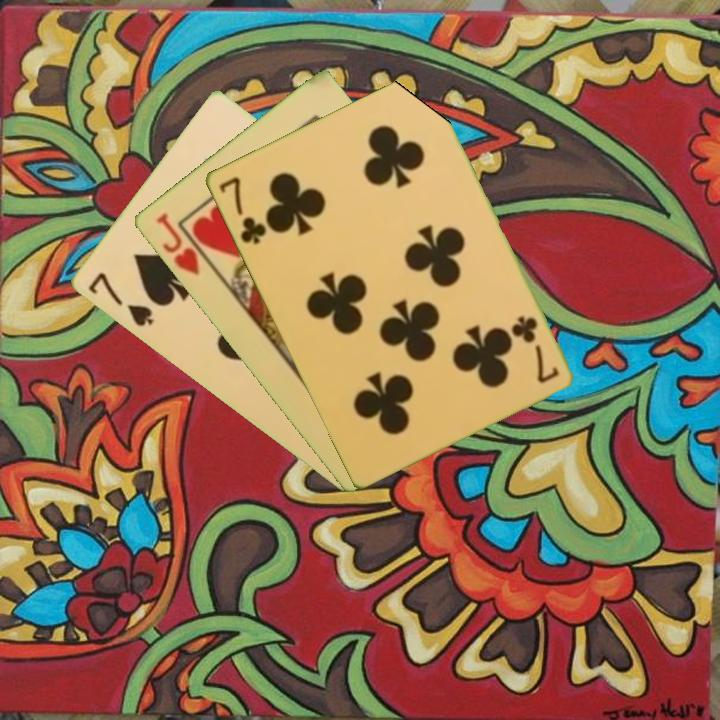7c: (507, 312, 562, 387), (215, 173, 269, 248)
7s: (83, 268, 156, 330)
Jh: (152, 209, 217, 279)
